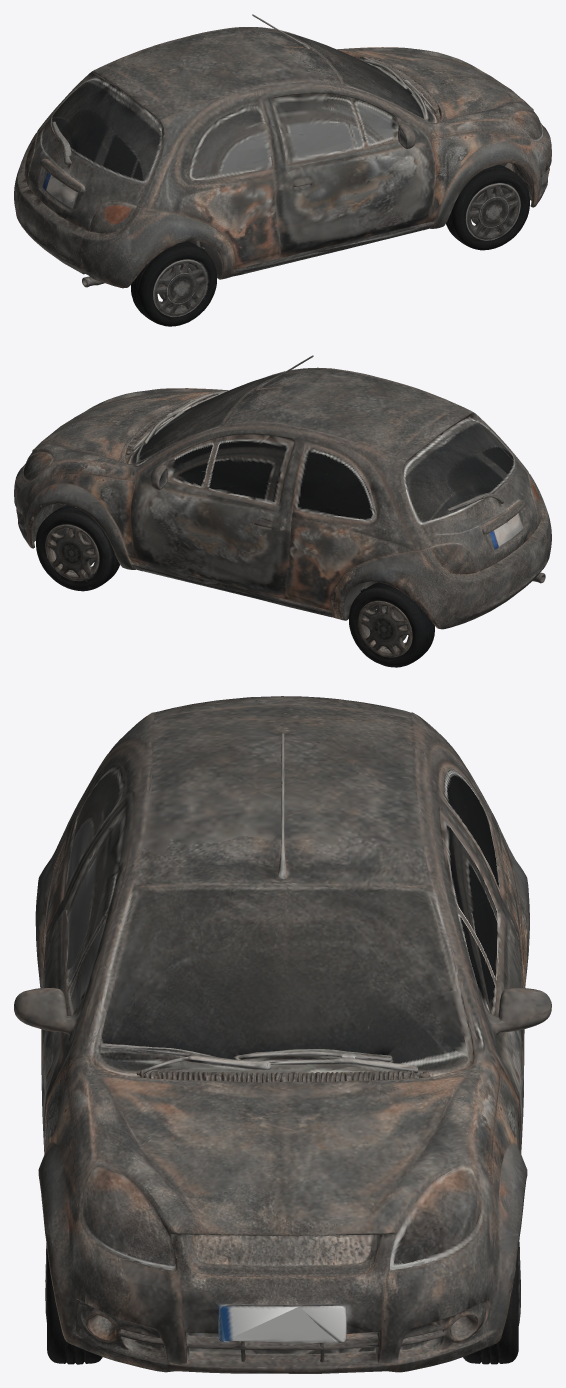
The model's file is sagui-queimado__01a16dcf.glb.
3 renders of one model, top to bottom at view 1: azimuth 30°, elevation 25°; view 2: azimuth 150°, elevation 25°; view 3: azimuth 270°, elevation 25°, orthographic. The views are drawn at different scales.
Visible parts, largest first — view 1: sagui-queimado; view 2: sagui-queimado; view 3: sagui-queimado.
Boxes of the visible parts, x1=… form: sagui-queimado: x1=14, y1=14, x2=551, y2=326; sagui-queimado: x1=14, y1=355, x2=551, y2=667; sagui-queimado: x1=14, y1=696, x2=551, y2=1373.
Size of the model in its own units: 3.84 by 1.8 by 1.94.
1 material, 1 textured.
